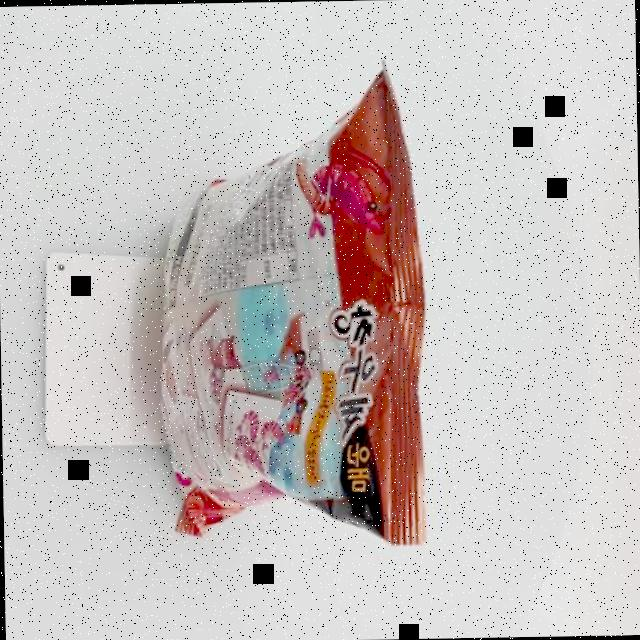snack_bag: (140, 48, 440, 566)
